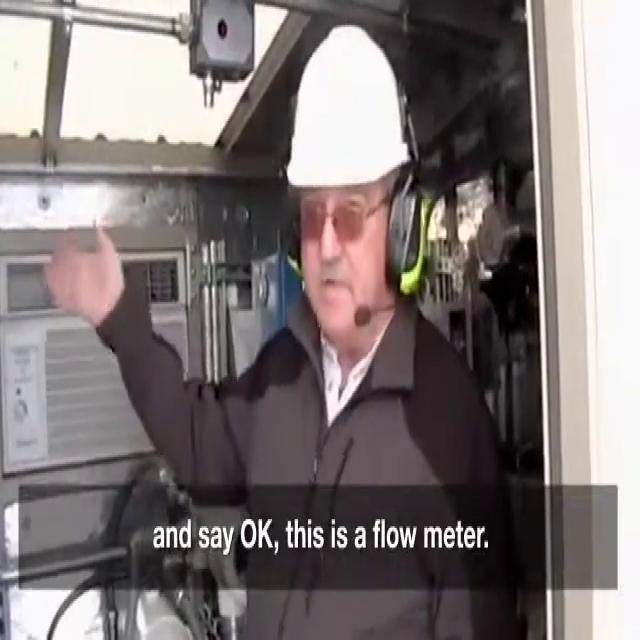earmuff: (382, 170, 430, 307)
glasses: (290, 191, 388, 250)
helmet: (282, 20, 416, 192)
